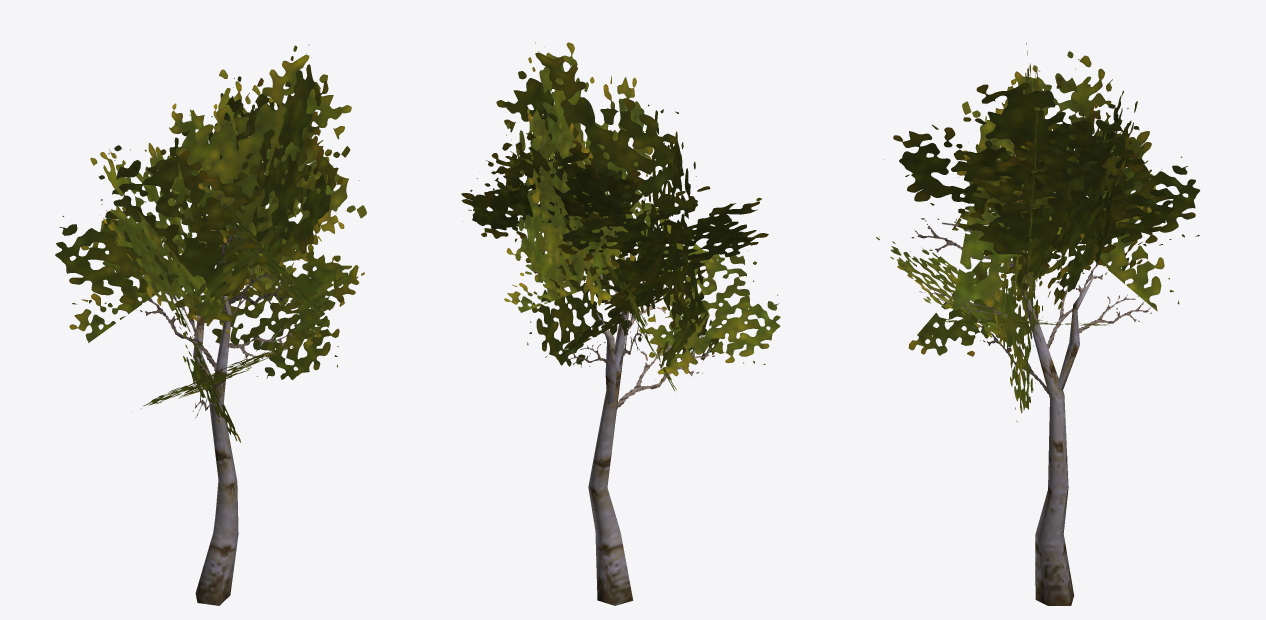
File: d_sd_shu04_zw.FBX
3 renders of one model, left to right at view 1: azimuth 30°, elevation 25°; view 2: azimuth 150°, elevation 25°; view 3: azimuth 270°, elevation 25°, orthographic. The views are drawn at different scales.
Visible parts, largest first — view 1: d_sd_shu04_zw_B01, d_sd_shu04_zw_A, d_sd_shu04_zw_B02; view 2: d_sd_shu04_zw_B01, d_sd_shu04_zw_A, d_sd_shu04_zw_B02; view 3: d_sd_shu04_zw_B01, d_sd_shu04_zw_A, d_sd_shu04_zw_B02.
Boxes of the visible parts, <box> form: d_sd_shu04_zw_B01: <box>55,44,366,442</box>; d_sd_shu04_zw_A: <box>193,262,238,605</box>; d_sd_shu04_zw_B02: <box>133,192,295,417</box>; d_sd_shu04_zw_B01: <box>461,42,780,391</box>; d_sd_shu04_zw_A: <box>588,256,633,605</box>; d_sd_shu04_zw_B02: <box>564,207,714,409</box>; d_sd_shu04_zw_B01: <box>876,42,1200,422</box>; d_sd_shu04_zw_A: <box>1021,274,1095,605</box>; d_sd_shu04_zw_B02: <box>911,141,1151,393</box>.
Bounding box in the file's own units: 539 × 854 × 510.
